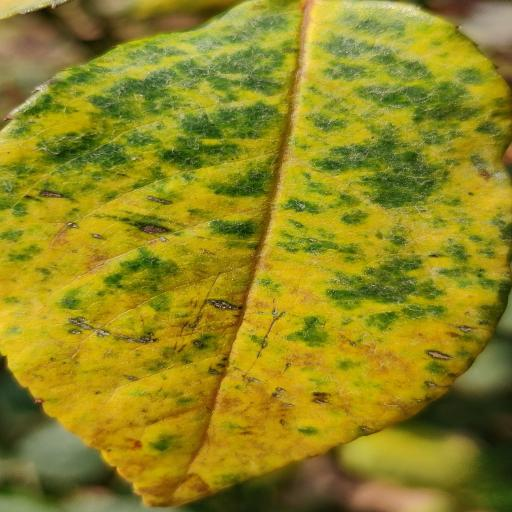red_mite: (1, 0, 512, 506)
